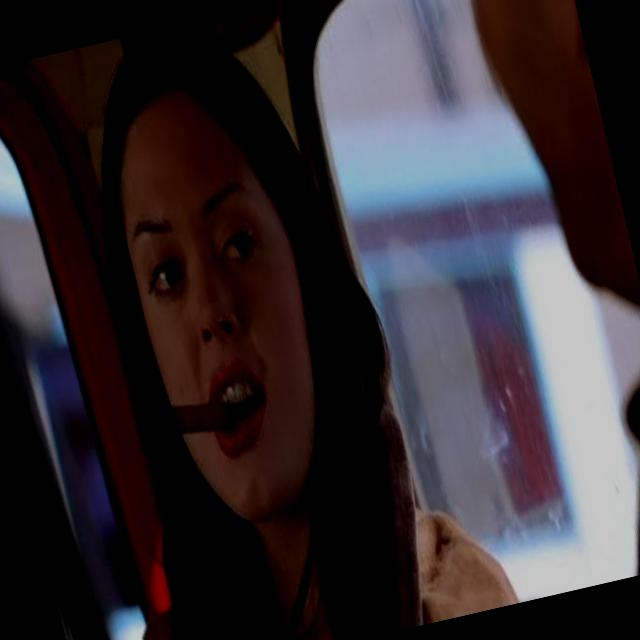smoke: (144, 375, 252, 462)
